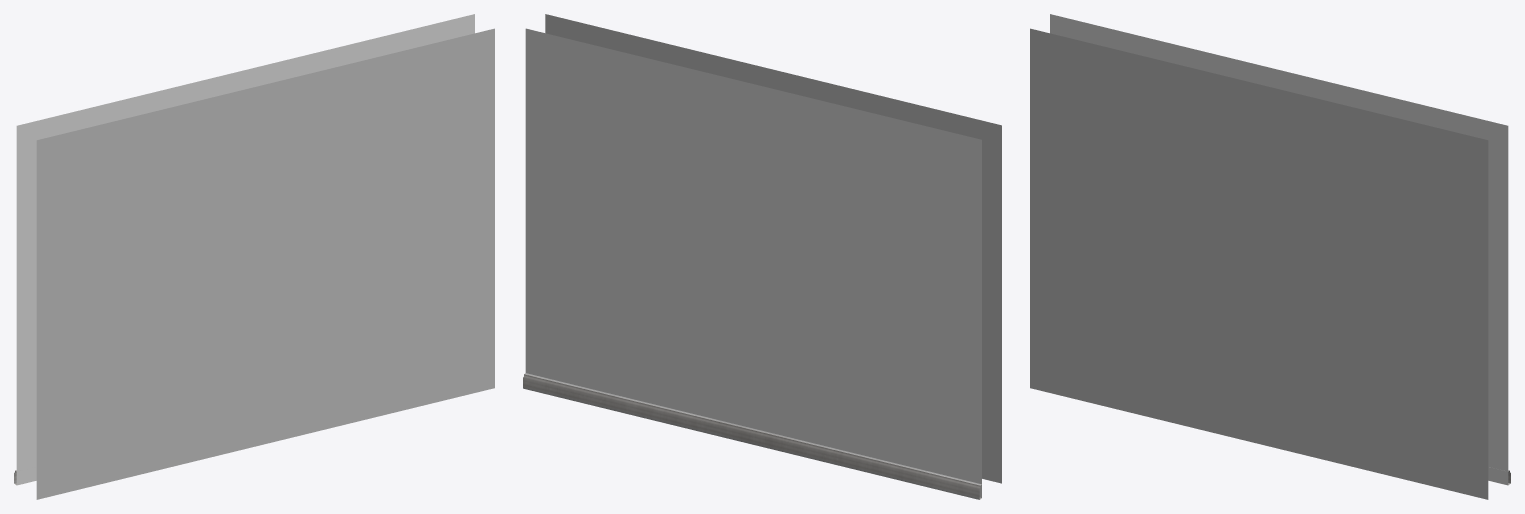
The model's file is House_01_Wall_02.fbx.
3 renders of one model, left to right at view 1: azimuth 30°, elevation 25°; view 2: azimuth 150°, elevation 25°; view 3: azimuth 330°, elevation 25°, orthographic.
Visible parts, largest first — view 1: House_01_Wall_02; view 2: House_01_Wall_02; view 3: House_01_Wall_02.
Boxes of the visible parts, x1,y1,x2,y2 form: House_01_Wall_02: (14,14,494,499); House_01_Wall_02: (523,14,1001,499); House_01_Wall_02: (1030,14,1510,499).
Size of the model in its own units: 400 by 300 by 33.93.
